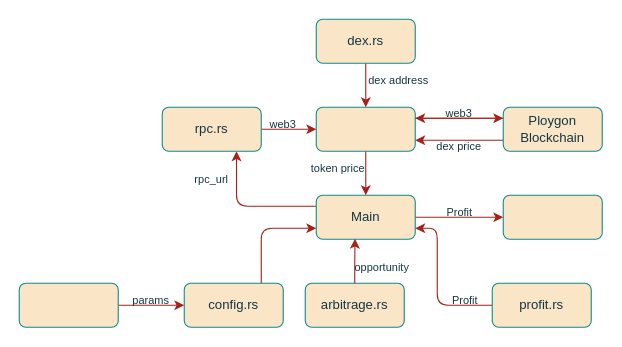
This 622x347 diagram has some shape labels left out. Each missing label, with the centre of its shape:
".env" belongs at point 68,304.
"DB.rs" belongs at point 552,216.
"Price.rs" belongs at point 365,128.
